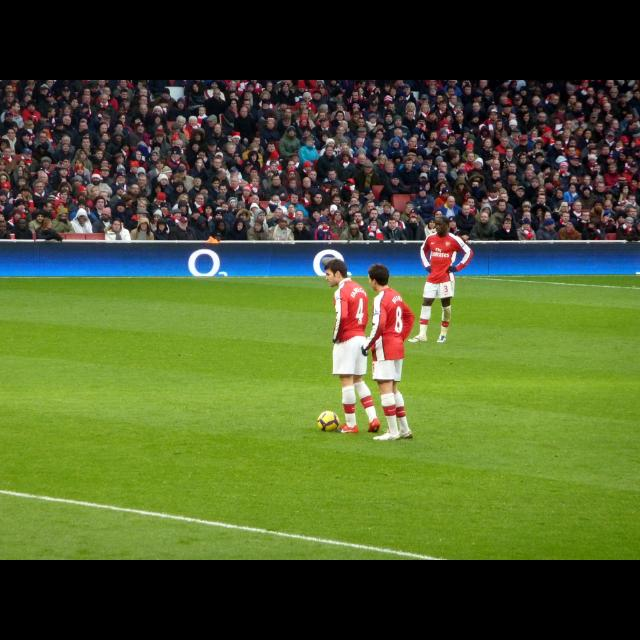Football: (317, 410, 339, 432)
